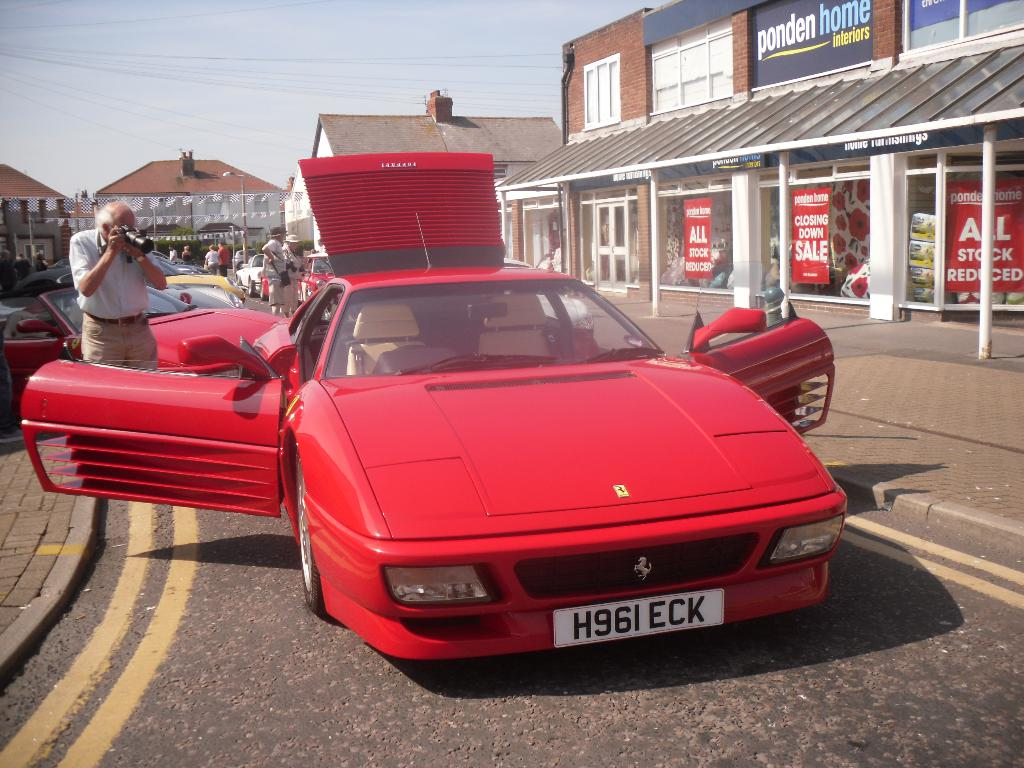mobil: (239, 260, 891, 663)
